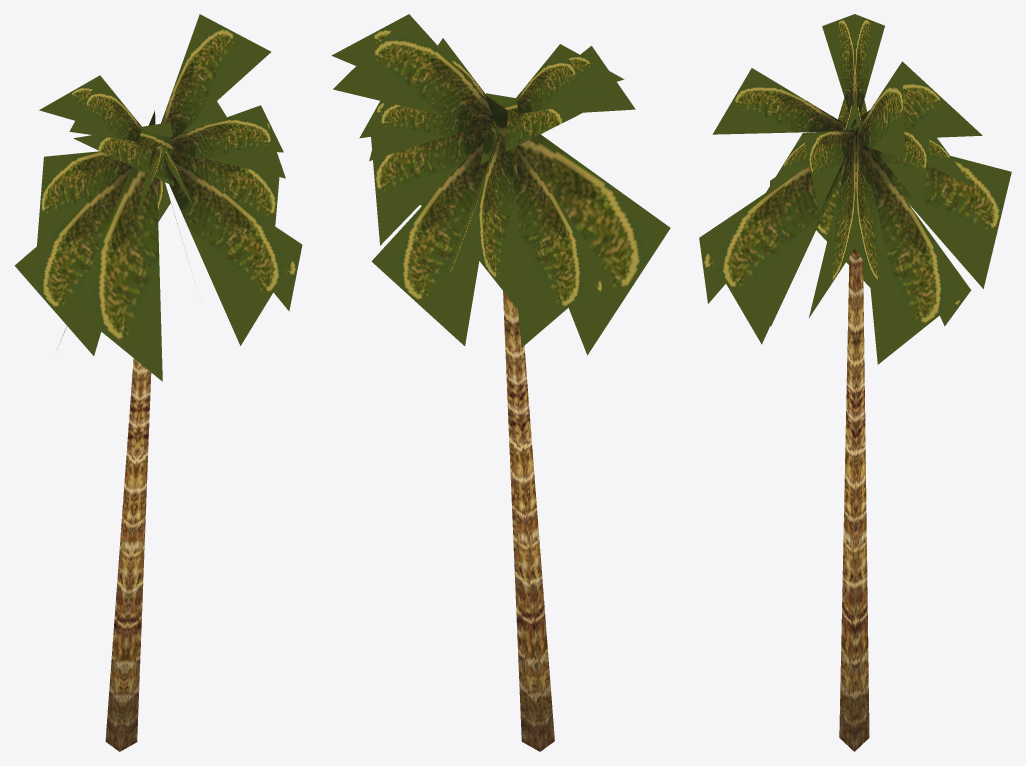
The model's file is palm_base.glb.
3 views of the same model, side by side, from view 1: azimuth 30°, elevation 25°; view 2: azimuth 150°, elevation 25°; view 3: azimuth 270°, elevation 25° (orthographic). The views are drawn at different scales.
Parts seen in each view (by area): view 1: MeshRoot; view 2: MeshRoot; view 3: MeshRoot.
Boxes of the visible parts, <box> form: MeshRoot: <box>14,14,302,751</box>; MeshRoot: <box>331,14,670,751</box>; MeshRoot: <box>699,14,1011,751</box>.
Size of the model in its own units: 4.52 by 11.43 by 4.41.
1 material, 1 textured.
